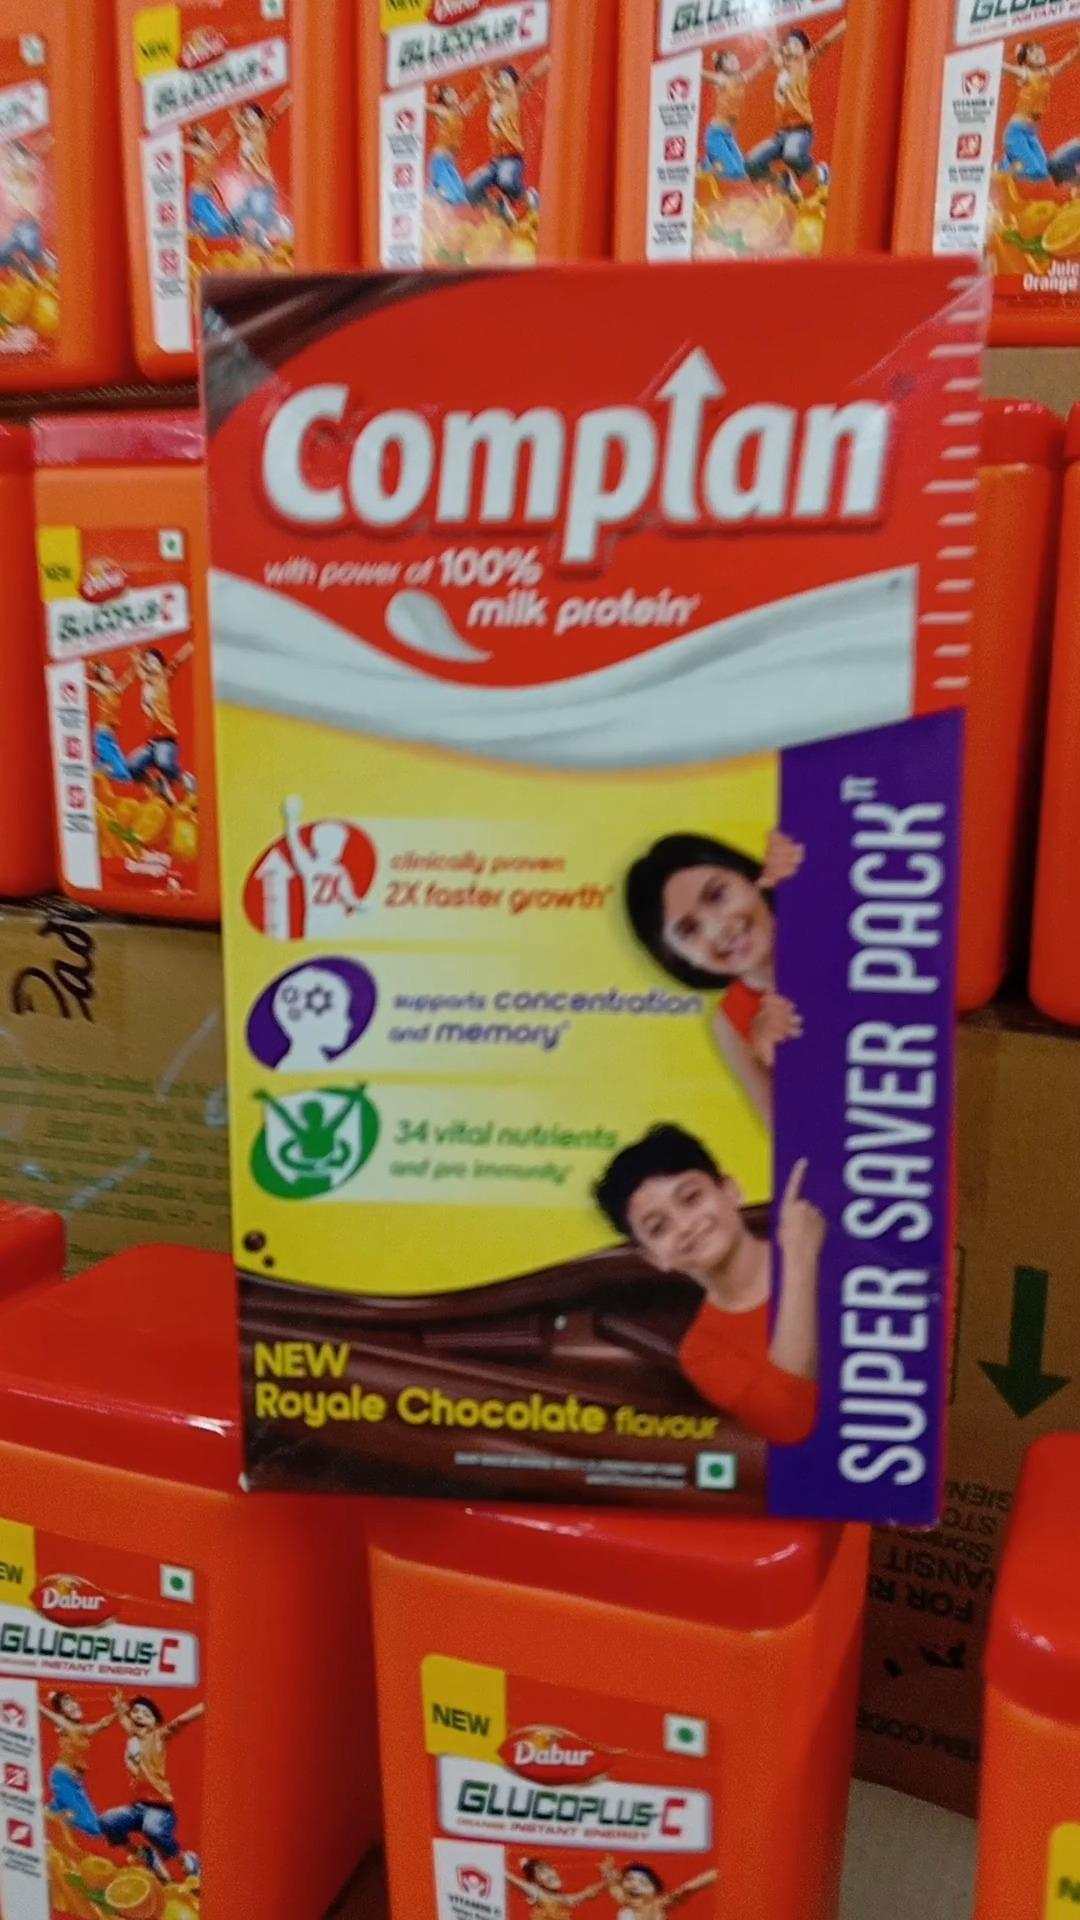COMPLAN_CHOCOLATE_1_KG_PACK: (219, 249, 976, 1532)
